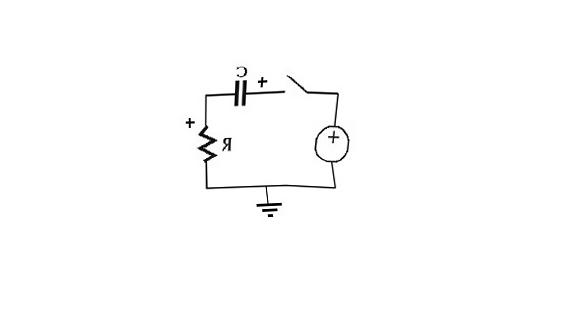Battery: (299, 115, 364, 174)
